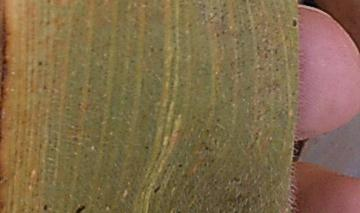tarspot: (76, 204, 86, 213), (291, 16, 298, 28), (152, 184, 161, 193), (203, 143, 210, 152), (37, 57, 43, 67), (42, 204, 48, 213), (143, 143, 150, 150), (214, 31, 221, 38), (177, 162, 183, 168)
